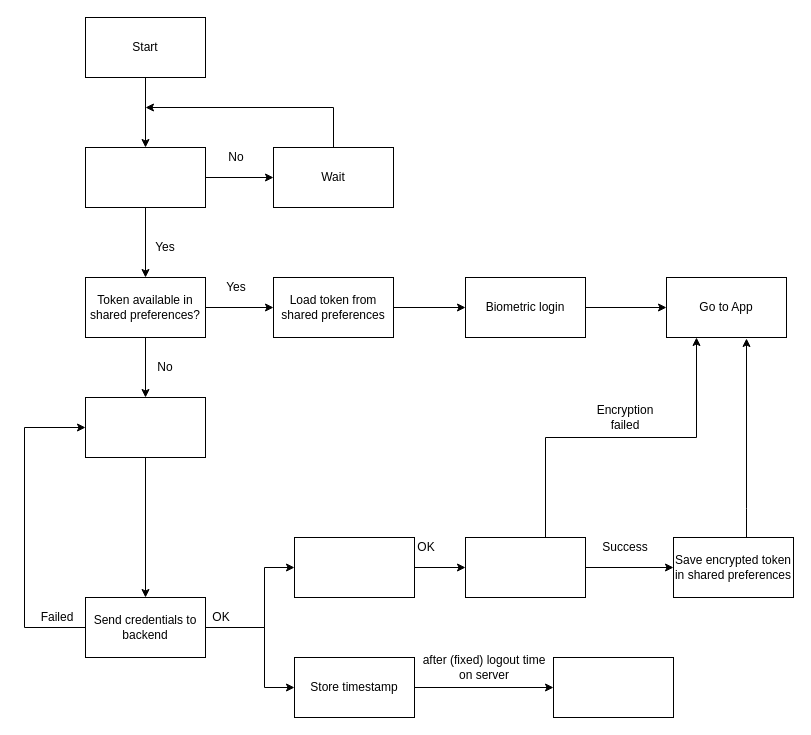
Image size: 811x735. Some labels were removed from this diagram. The shapes that lost their labels are listed below. From the top down, each one's centre as x and y in pixels, then its label:
At point 145,177: "Have Seacat Identity?".
At point 145,427: "Display login form".
At point 354,567: "Store token in memory".
At point 525,567: "Encrypt token".
At point 613,687: "Remove token from shared preferences and memory".
